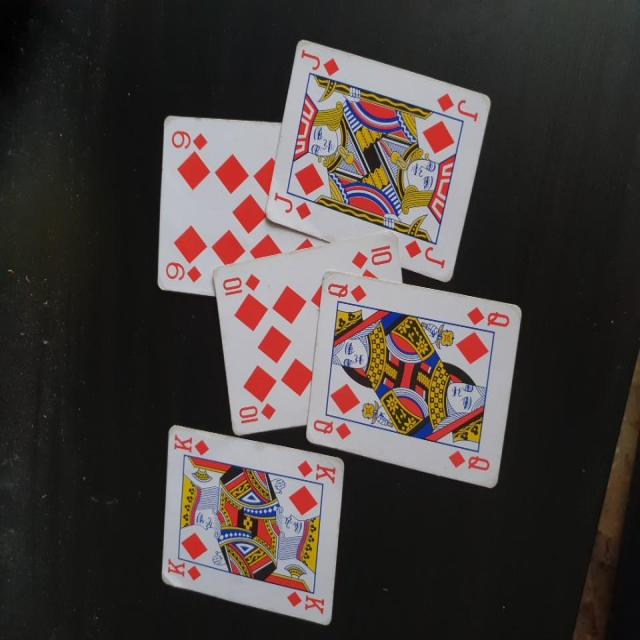10 Diamonds: (211, 232, 402, 440)
9 Diamonds: (156, 111, 329, 296)
J Diamonds: (264, 37, 493, 282)
K Diamonds: (160, 422, 346, 626)
Q Diamonds: (304, 268, 523, 492)
